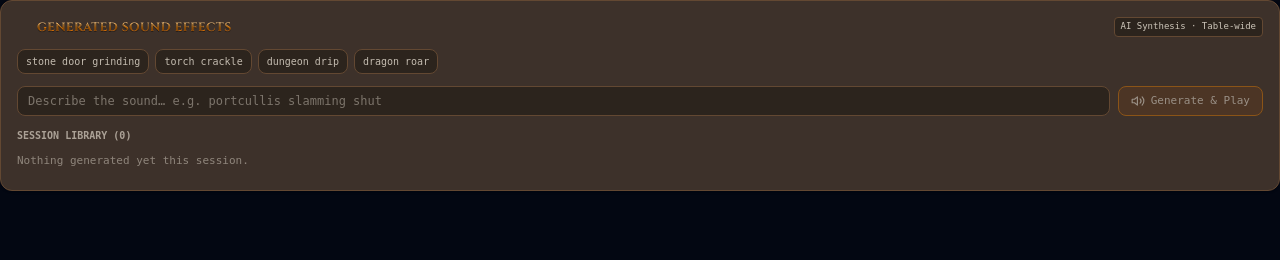
Test: presets + generation flow › surfaces the server 403 MEDIA_SFX_FORBIDDEN copy verbatim as the GM-only notice
Step 1. Type "dragon roar" into the field with placeholder "Describe the sound… e.g. portcullis slamming shut" → (563, 101), box [17,86,1110,116]
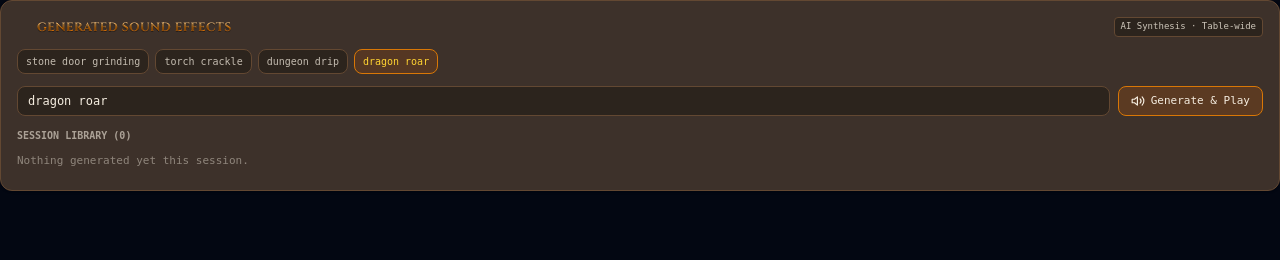
Step 2. Click the button "Generate & Play" → (1190, 101), box [1118,86,1263,116]
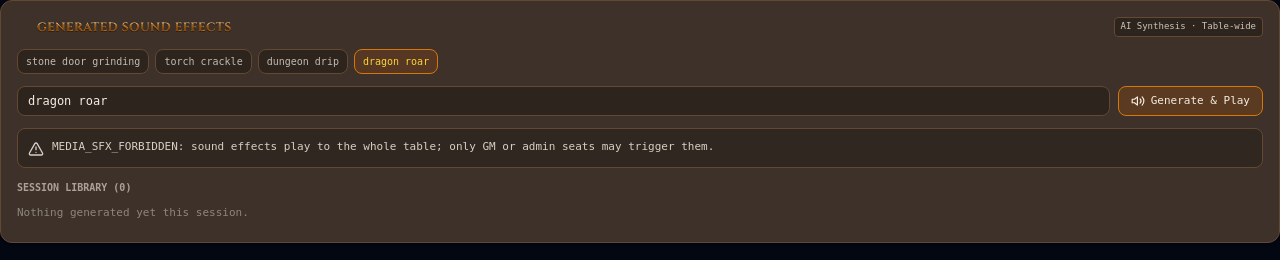
Check: the text "Nothing generated yet this session." is shown, box [17,206,249,219]
Check: the message shows "MEDIA_SFX_FORBIDDEN", box [52,140,714,153]
Check: the message shows "only GM or admin seats may trigger them", box [52,140,714,153]
